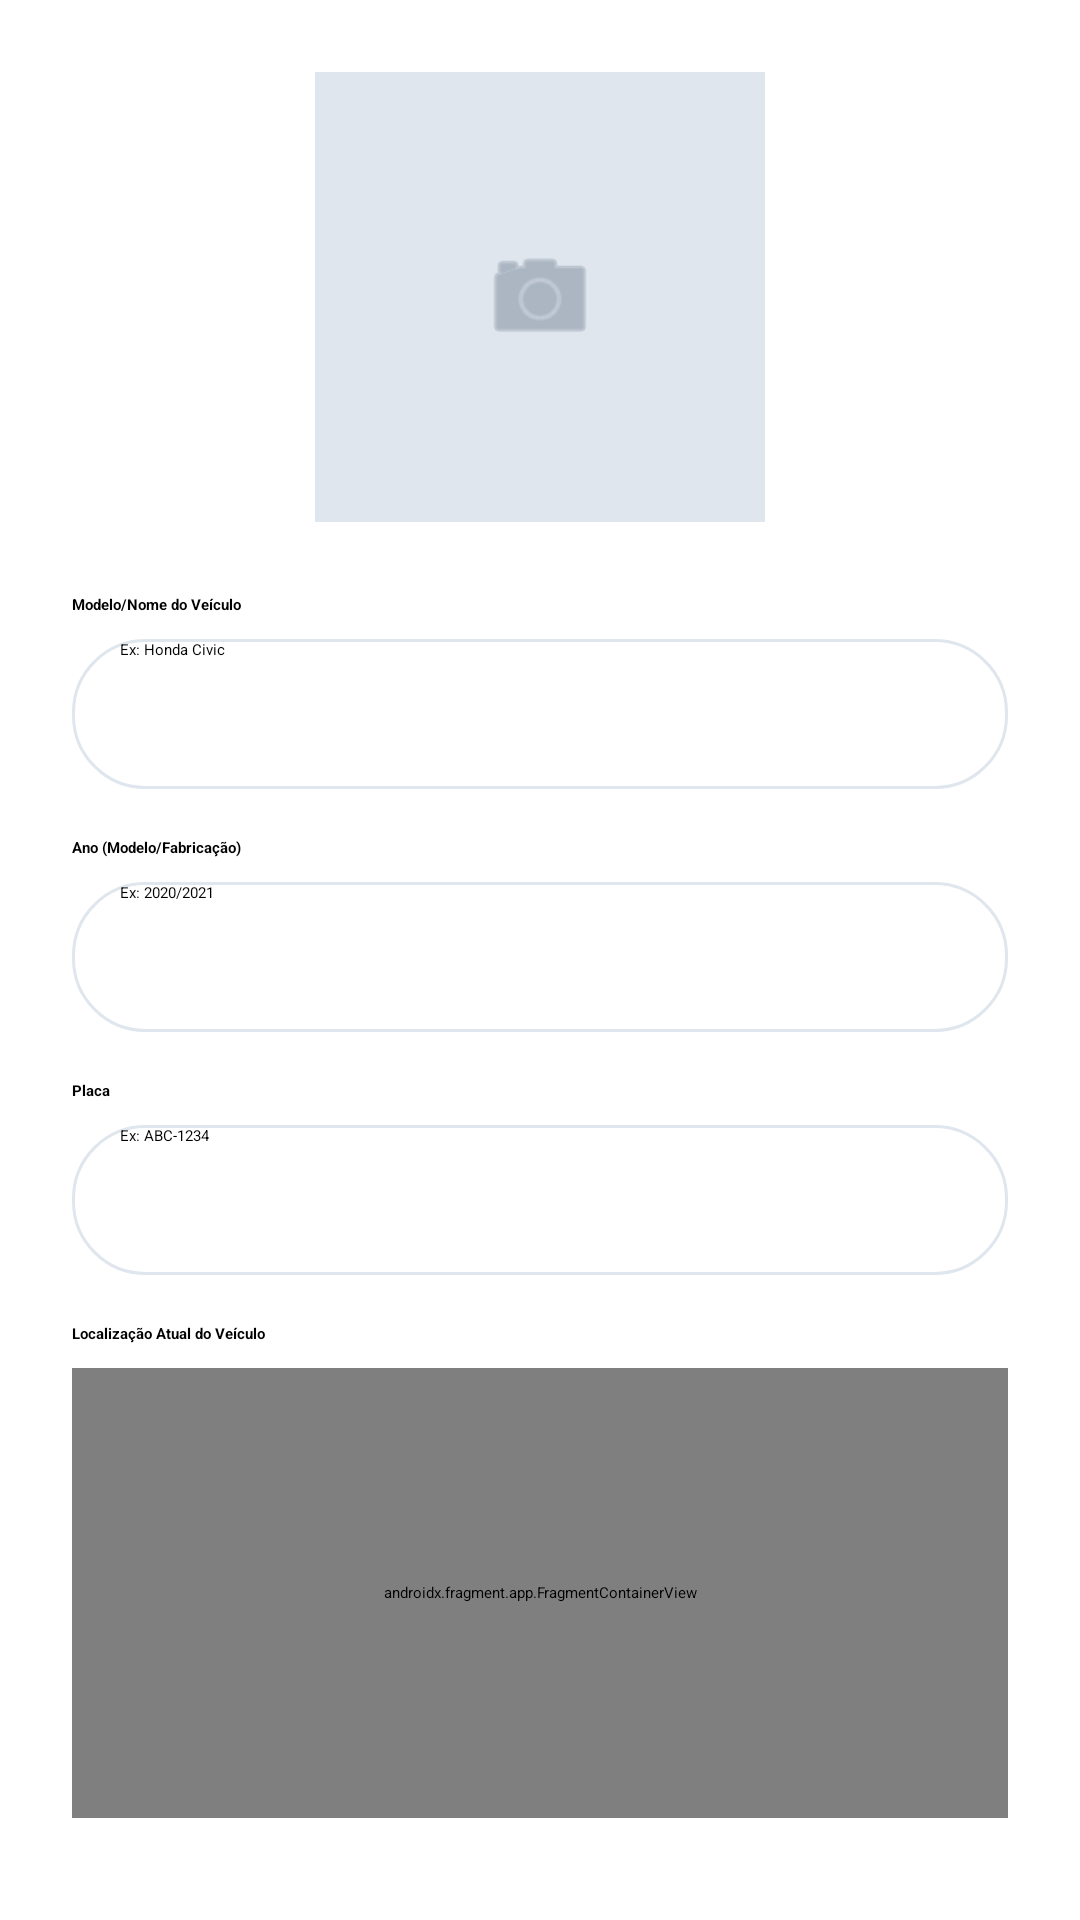

Where to tap for icons on this 1080×1920 app screen, as point (x, y):
camera: point (540, 295)
